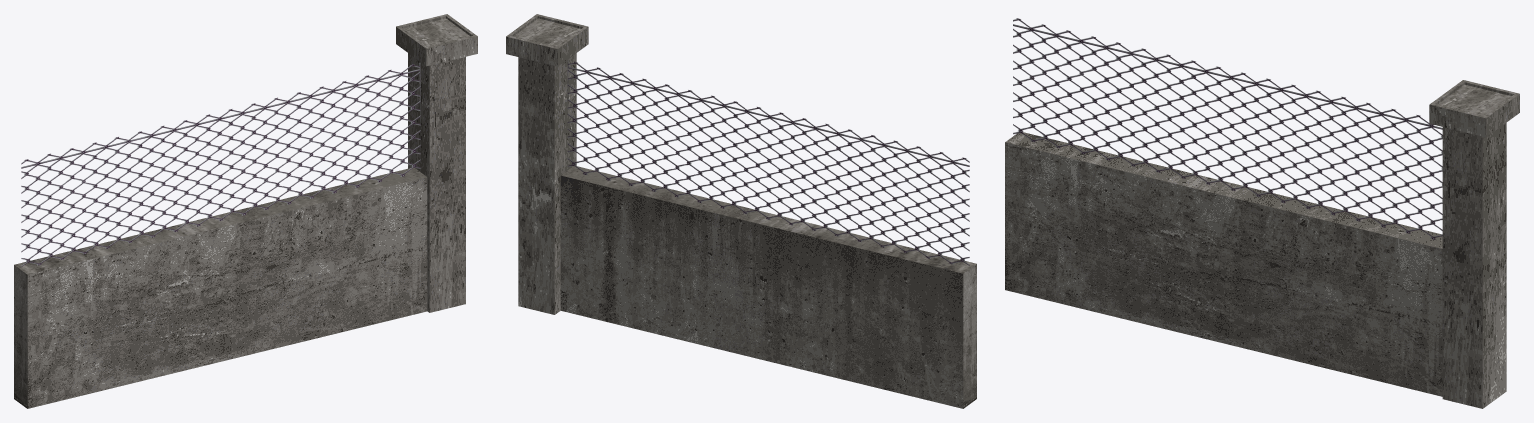
Rendered from Modular Concrete Fence.glb.
3 views of the same model, side by side, from view 1: azimuth 30°, elevation 25°; view 2: azimuth 150°, elevation 25°; view 3: azimuth 330°, elevation 25° (orthographic). The views are drawn at different scales.
Visible parts, largest first — view 1: Cube, Plane, Cube.001; view 2: Cube, Cube.001, Plane; view 3: Cube, Cube.001, Plane.
Boxes of the visible parts, x1,y1,x2,y2 form: Cube: [14, 167, 427, 408]; Plane: [21, 62, 420, 266]; Cube.001: [396, 14, 477, 312]; Cube: [560, 166, 976, 408]; Cube.001: [506, 14, 588, 314]; Plane: [567, 60, 969, 265]; Cube: [1005, 132, 1442, 396]; Cube.001: [1429, 80, 1519, 408]; Plane: [1013, 18, 1442, 239].
Bounding box in the file's own units: 5.14 × 2.98 × 0.6144.
3 materials, 3 textured.
